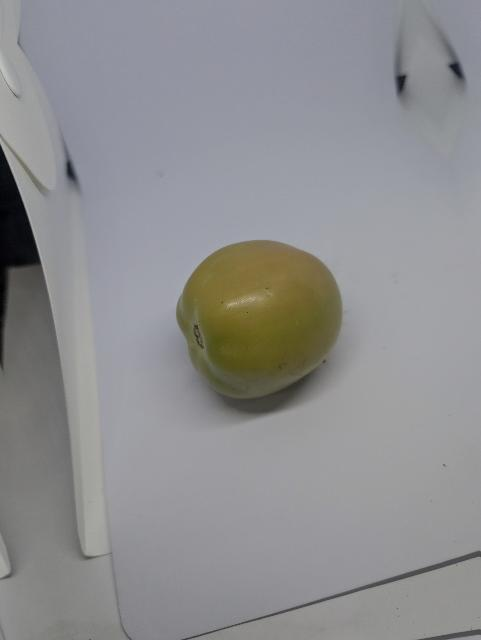breaker: (175, 237, 345, 402)
